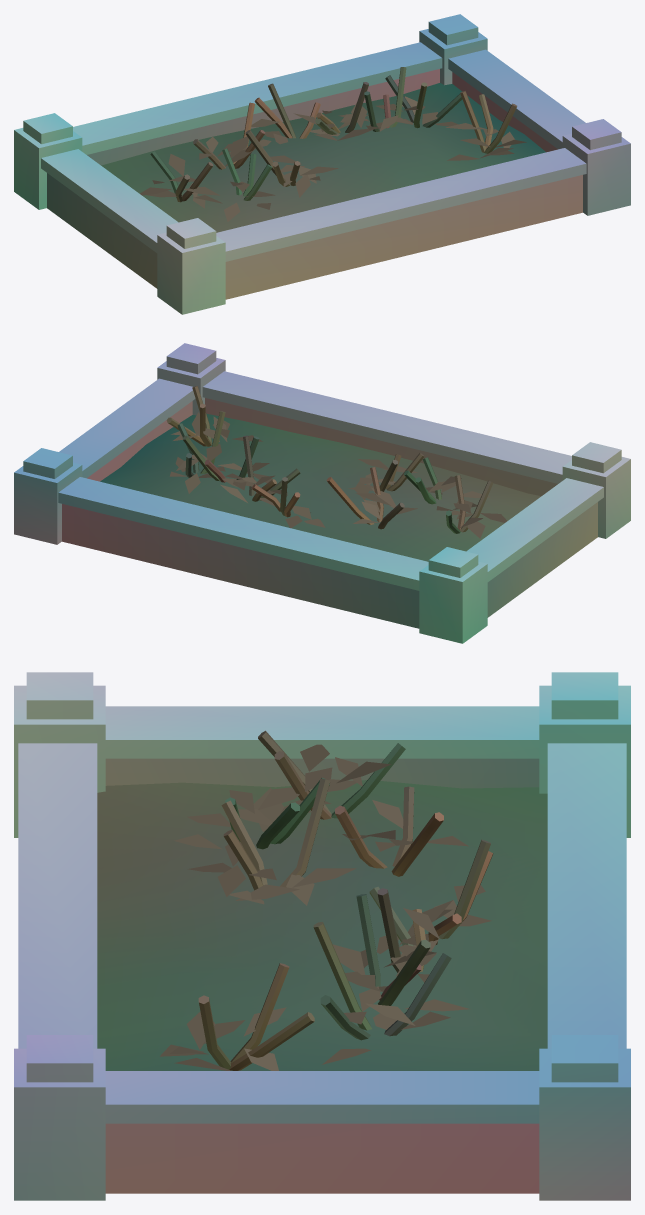
The model's file is garden_bed_dead.glb.
The picture shows the model from 3 angles, top to bottom: view 1: azimuth 30°, elevation 25°; view 2: azimuth 150°, elevation 25°; view 3: azimuth 270°, elevation 25°; orthographic projection. The views are drawn at different scales.
Parts seen in each view (by area): view 1: bed_coping, bed_soil, bed_curb, growth; view 2: bed_coping, bed_soil, bed_curb, growth; view 3: bed_coping, bed_soil, bed_curb, growth, stem_7_1, stem_3_0, stem_8_2, stem_8_0, stem_7_0, stem_4_0, stem_6_2, stem_6_0 (+9 smaller).
Part boxes in pixels (x1=…): bed_coping: x1=14, y1=14, x2=630, y2=314; bed_soil: x1=101, y1=83, x2=545, y2=232; bed_curb: x1=47, y1=69, x2=582, y2=299; growth: x1=140, y1=96, x2=526, y2=221; bed_coping: x1=14, y1=343, x2=630, y2=643; bed_soil: x1=100, y1=413, x2=541, y2=561; bed_curb: x1=62, y1=398, x2=597, y2=628; growth: x1=169, y1=412, x2=507, y2=538; bed_coping: x1=14, y1=672, x2=630, y2=1200; bed_soil: x1=97, y1=780, x2=547, y2=1070; bed_curb: x1=105, y1=758, x2=539, y2=1193; growth: x1=160, y1=744, x2=491, y2=1070; stem_7_1: x1=313, y1=922, x2=371, y2=1030; stem_3_0: x1=280, y1=778, x2=330, y2=887; stem_8_2: x1=230, y1=963, x2=289, y2=1062; stem_8_0: x1=229, y1=1012, x2=314, y2=1070; stem_7_0: x1=384, y1=953, x2=451, y2=1036; stem_4_0: x1=439, y1=839, x2=490, y2=939; stem_6_2: x1=356, y1=894, x2=380, y2=986; stem_6_0: x1=378, y1=939, x2=430, y2=1005.
Bounding box in the file's own units: 2.28 × 0.4431 × 1.48.
